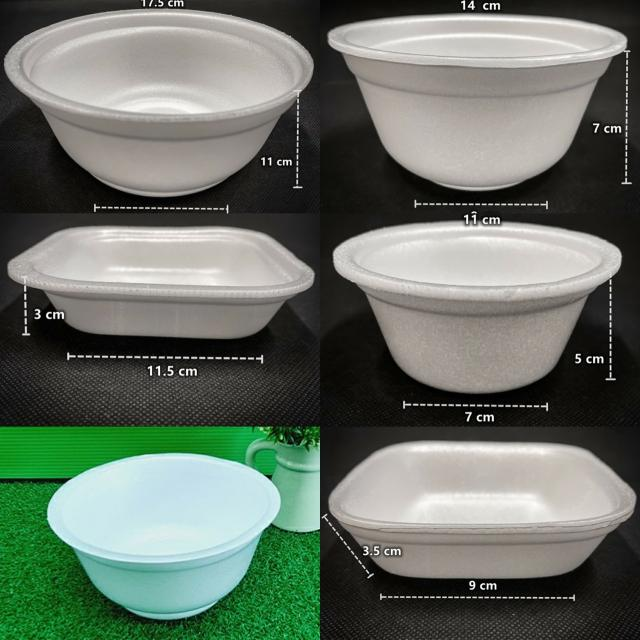plastik: (5, 10, 313, 196), (328, 14, 627, 190), (333, 221, 622, 392), (329, 441, 635, 579), (48, 454, 280, 620), (8, 226, 314, 339)
